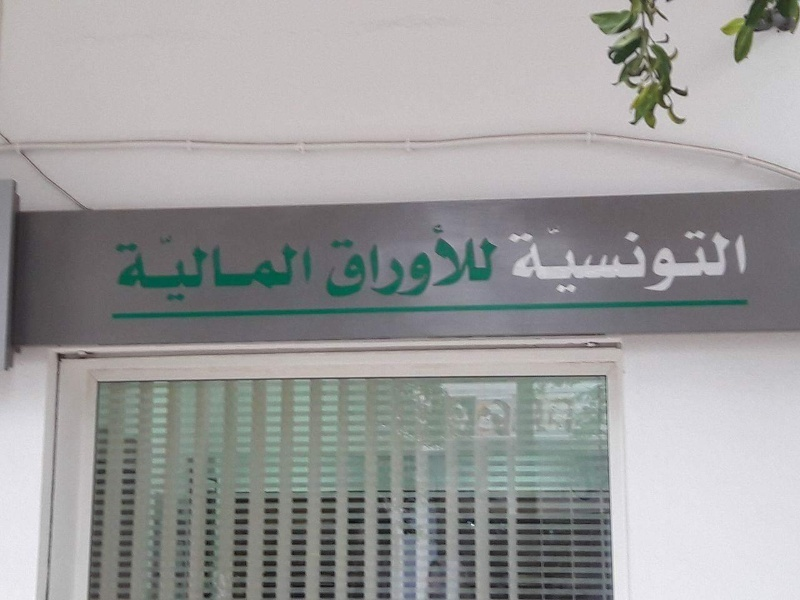text: (337, 223, 352, 301), (353, 223, 368, 301), (369, 223, 384, 301), (385, 223, 400, 301), (401, 223, 416, 301), (417, 223, 432, 301), (433, 223, 448, 301), (449, 223, 464, 301), (465, 223, 480, 301), (481, 223, 496, 301), (129, 229, 144, 307), (145, 229, 160, 307), (161, 229, 176, 307), (177, 229, 192, 307), (193, 229, 208, 307), (209, 229, 224, 307), (225, 229, 240, 307), (241, 229, 256, 307), (257, 229, 272, 307), (273, 229, 288, 307), (289, 229, 304, 307), (322, 223, 336, 301), (114, 229, 128, 307), (513, 222, 528, 294), (529, 222, 544, 294), (545, 222, 560, 294), (561, 222, 576, 294), (577, 222, 592, 294), (593, 222, 608, 294), (609, 222, 624, 294), (625, 222, 640, 294), (641, 222, 656, 294), (657, 222, 672, 294), (673, 222, 688, 294), (689, 222, 704, 294), (705, 222, 720, 294), (721, 222, 736, 294), (737, 222, 749, 294), (305, 229, 316, 307), (508, 222, 512, 294), (497, 223, 499, 301)
